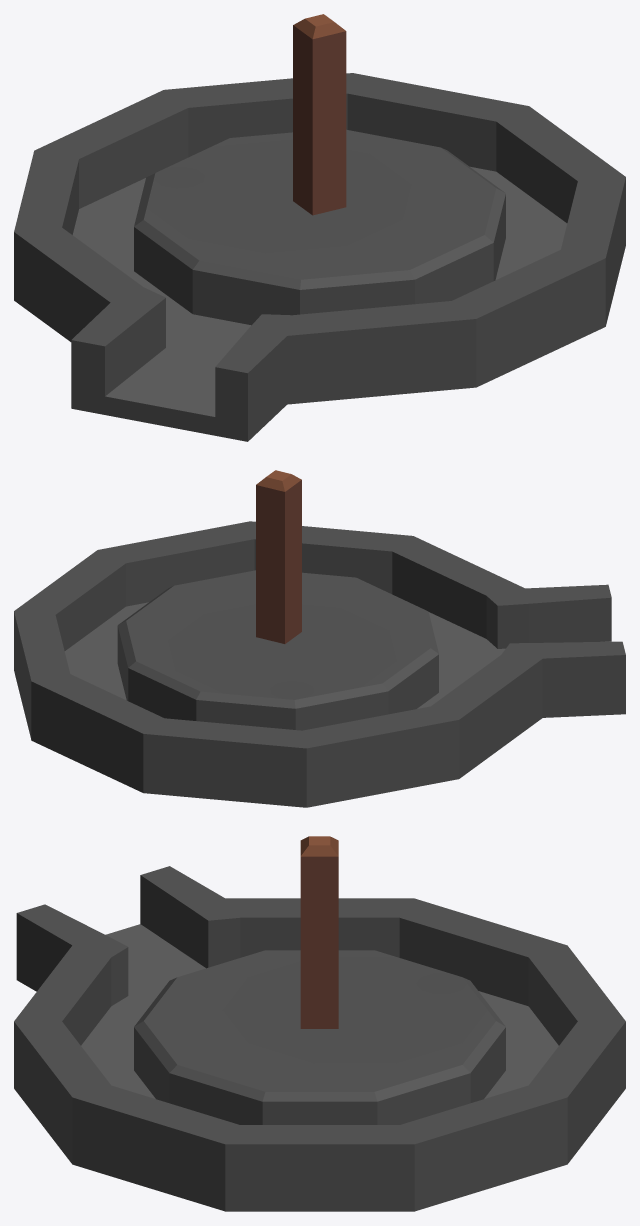
Rendered from millstone_down.fbx.
3 views of the same model, one above another, from view 1: azimuth 30°, elevation 25°; view 2: azimuth 150°, elevation 25°; view 3: azimuth 270°, elevation 25° (orthographic). The views are drawn at different scales.
Visible parts, largest first — view 1: millstone_down; view 2: millstone_down; view 3: millstone_down.
Boxes of the visible parts, x1=… form: millstone_down: x1=14, y1=14, x2=625, y2=441; millstone_down: x1=14, y1=470, x2=625, y2=807; millstone_down: x1=14, y1=836, x2=625, y2=1211.
Size of the model in its own units: 99.66 by 41.32 by 92.6.
